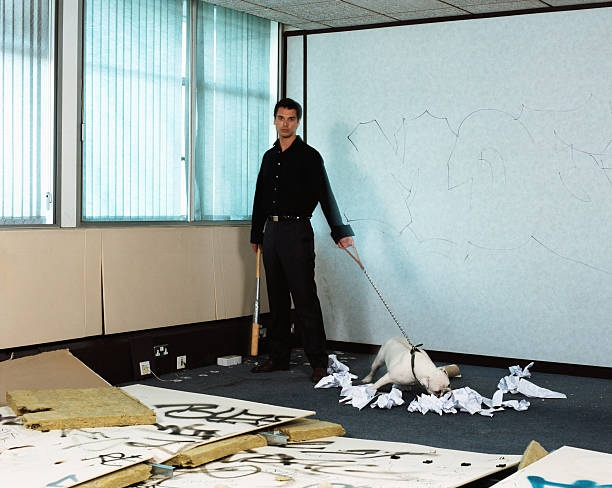bita: (245, 244, 264, 357)
